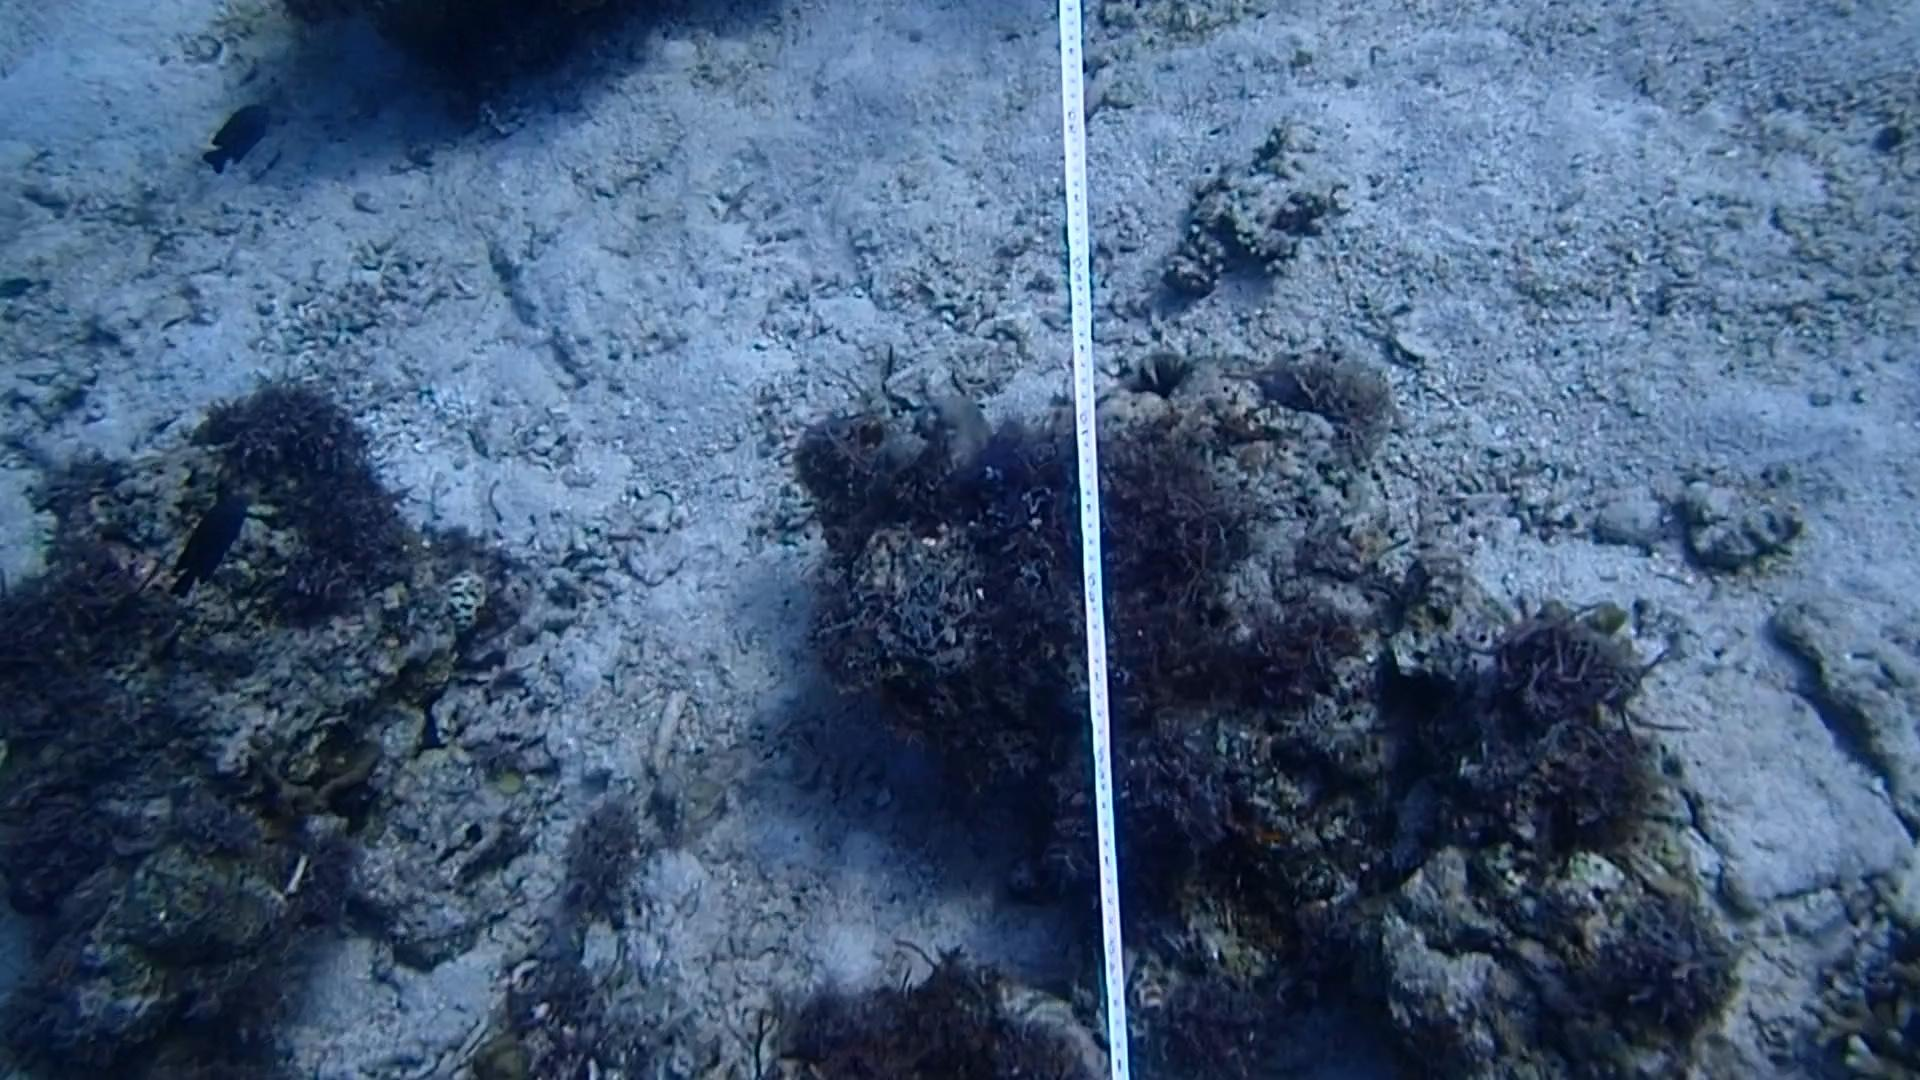Dark Fish: (162, 473, 266, 622), (198, 90, 278, 179)
